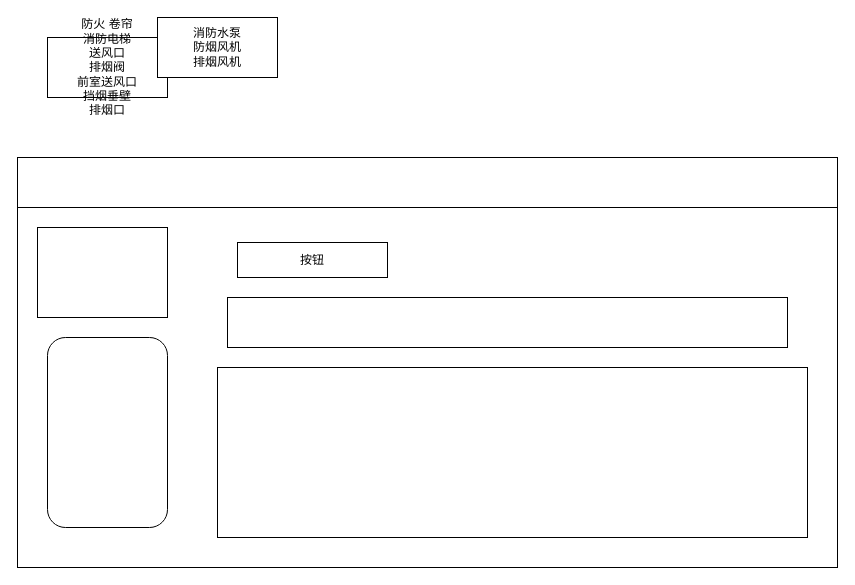
Image size: 855x585. Some labels were removed from this diagram. Here are the shapes that lost their labels. From the top down, the centre of each, then its label:
At (x=102, y=272): "火灾 报警-部位故障-监管报警".
At (x=507, y=322): "列表".
